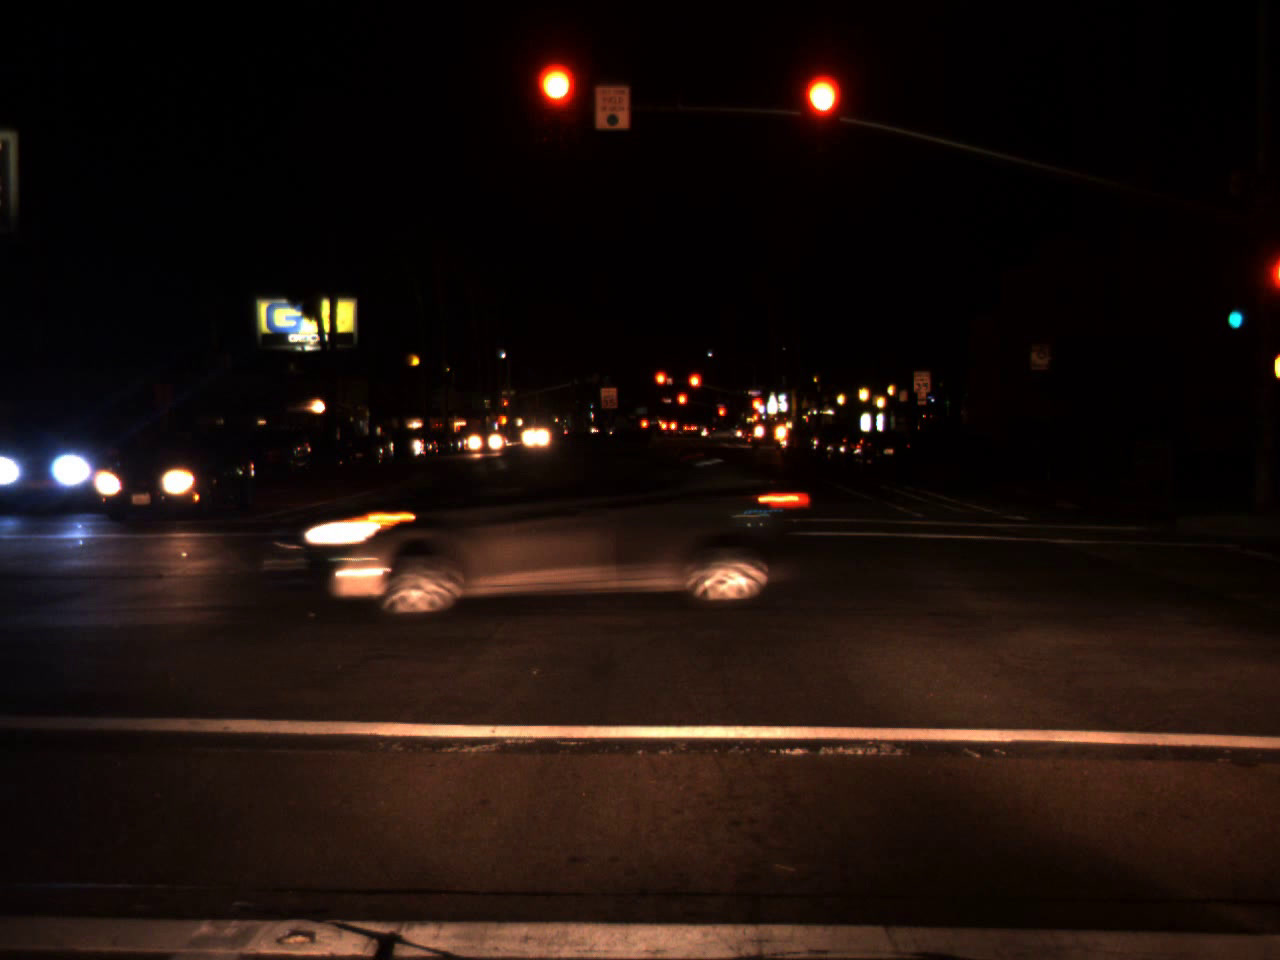stop: (537, 65, 577, 143), (802, 75, 842, 153), (653, 370, 671, 399), (686, 371, 702, 403), (675, 392, 688, 416), (750, 396, 763, 414), (717, 406, 726, 427), (503, 398, 509, 414)
